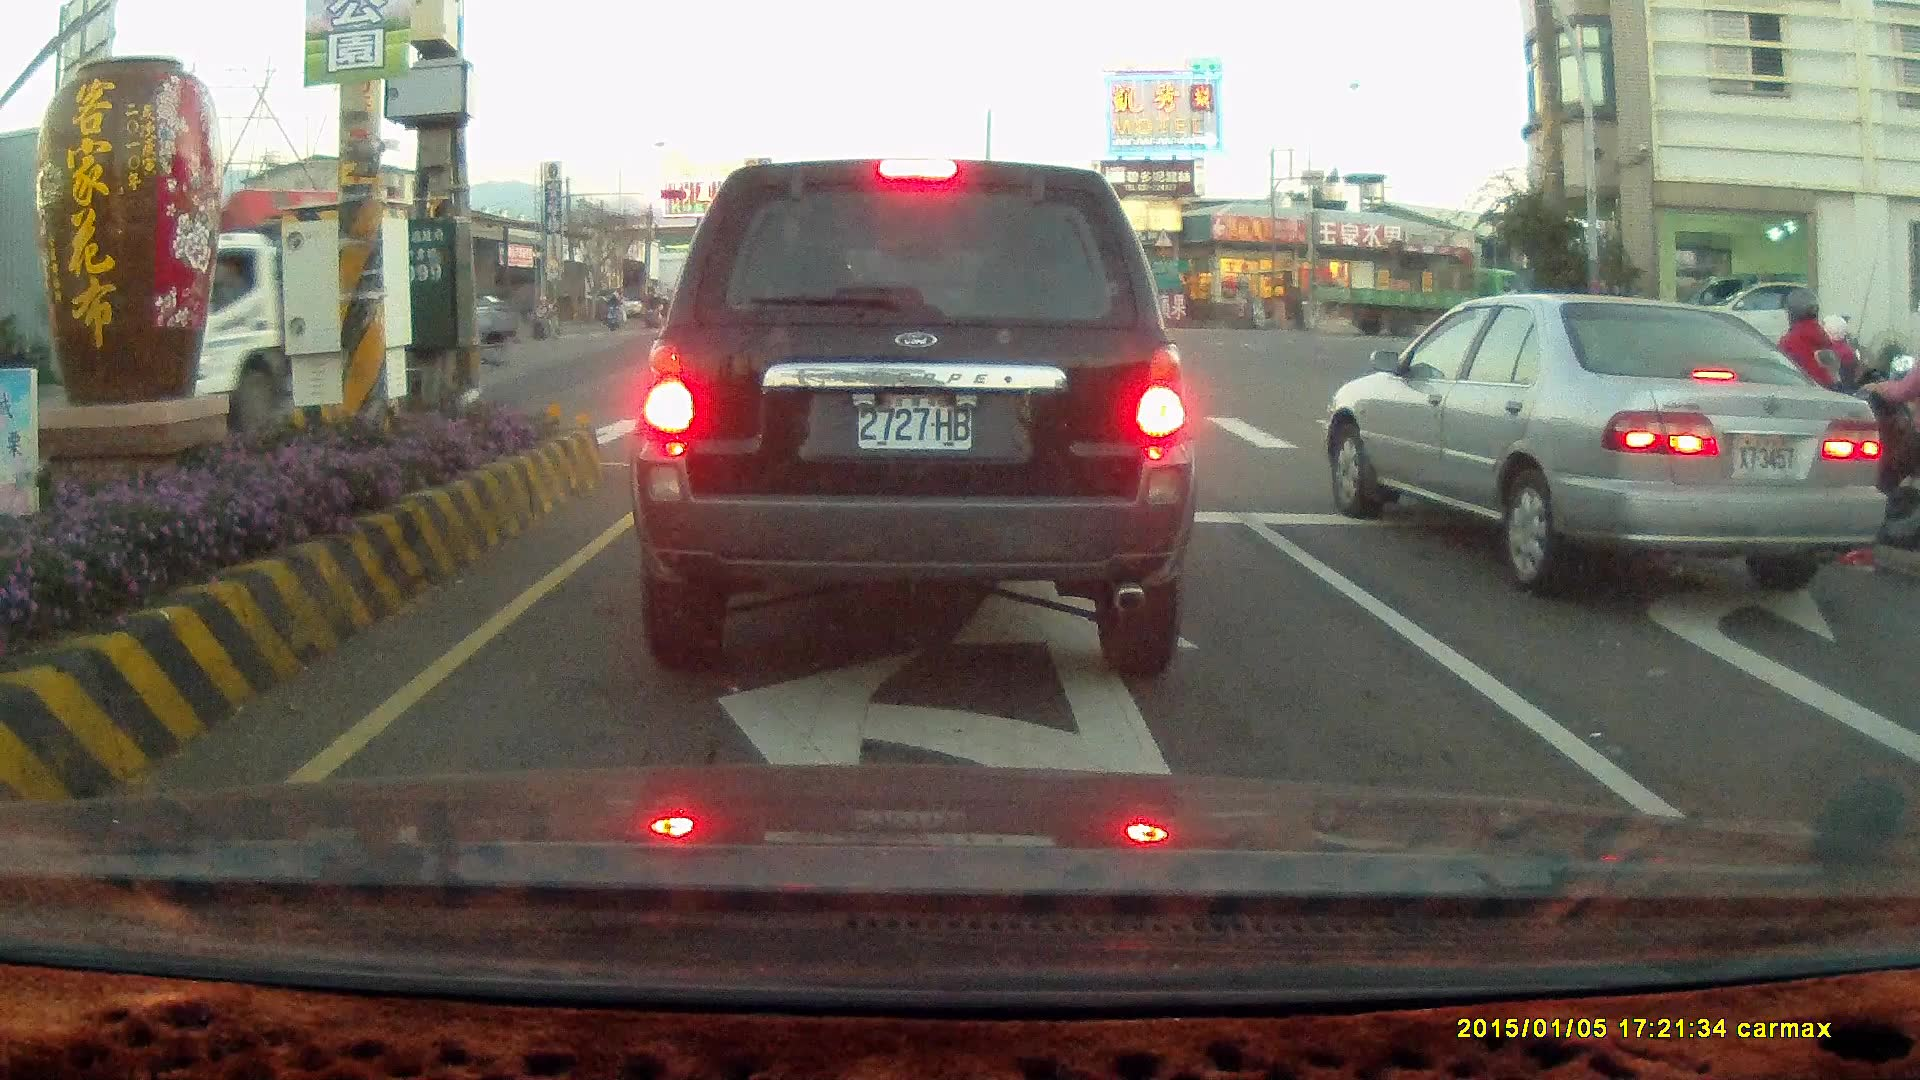rider: (1720, 287, 1860, 543), (1807, 343, 1920, 574), (529, 289, 562, 339), (603, 290, 624, 331), (646, 292, 667, 329)
vehicle: (628, 155, 1197, 681), (1323, 291, 1890, 600), (1339, 295, 1884, 582), (64, 222, 527, 425), (1656, 276, 1860, 372), (1668, 275, 1823, 373), (1330, 265, 1527, 340), (1896, 493, 1920, 836)
